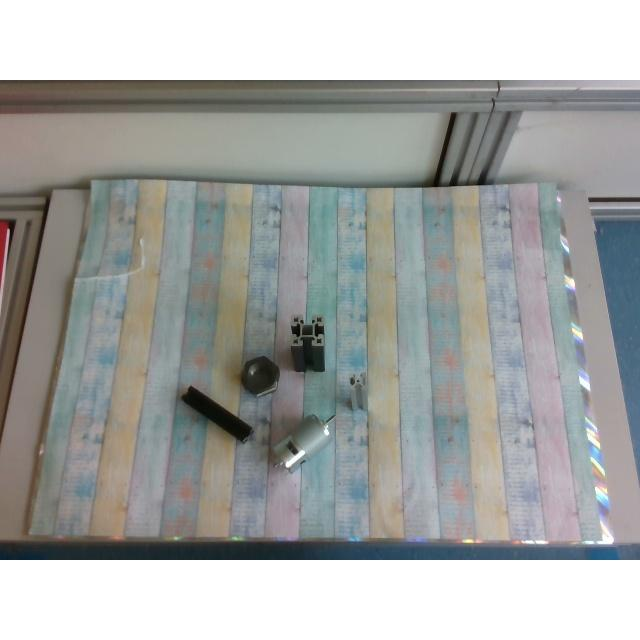F20_20_B: (180, 386, 252, 442)
F20_20_G: (348, 374, 368, 411)
M30: (242, 356, 278, 396)
Motor2: (270, 414, 338, 474)
S40_40_B: (290, 316, 326, 372)
